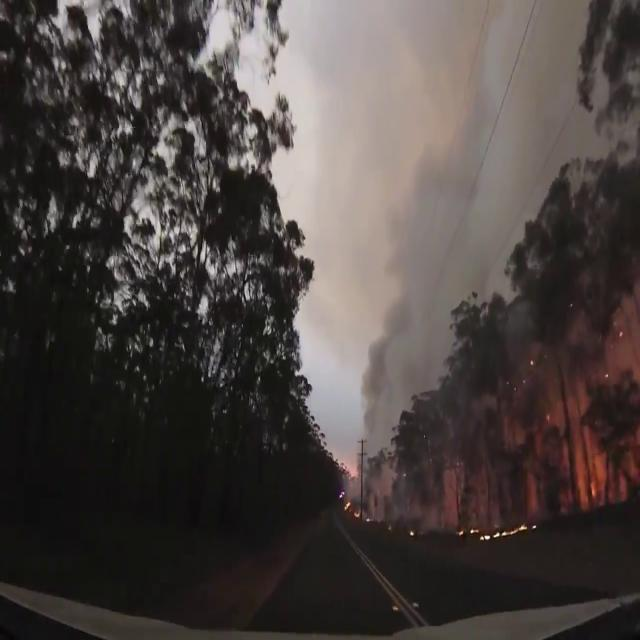Smoke: (323, 137, 522, 442)
